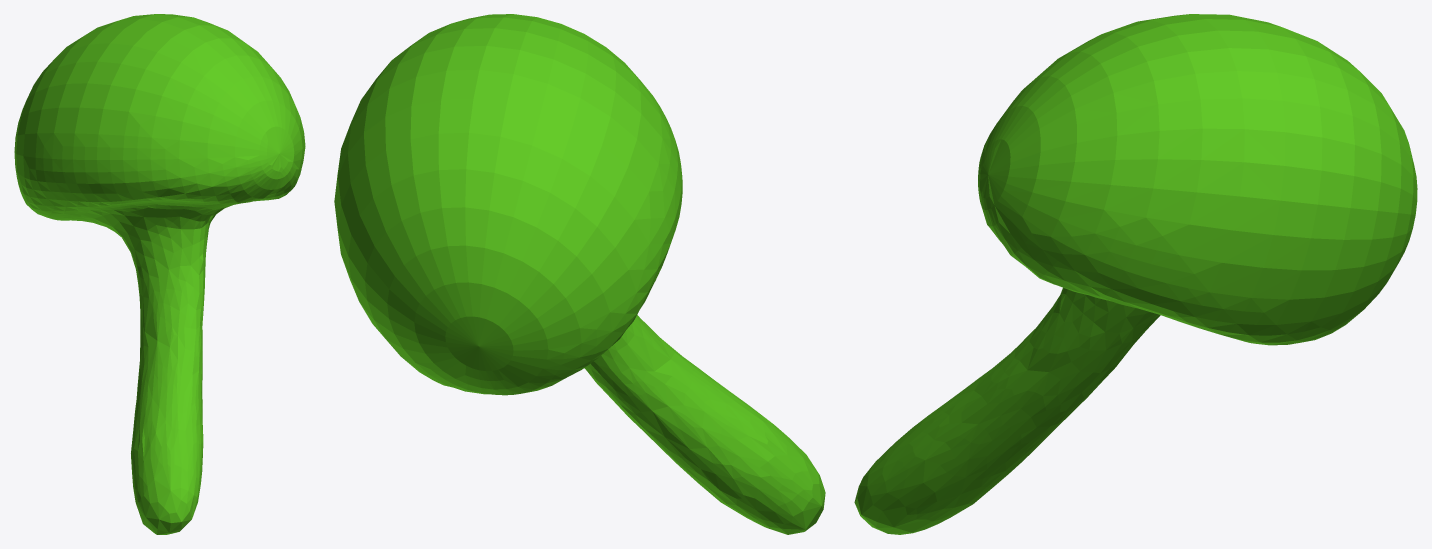
The model's file is mushroom.fbx.
The picture shows the model from 3 angles, left to right: view 1: azimuth 30°, elevation 25°; view 2: azimuth 150°, elevation 25°; view 3: azimuth 270°, elevation 25°; orthographic projection. The views are drawn at different scales.
Parts seen in each view (by area): view 1: 5945_vn.obj_1; view 2: 5945_vn.obj_1; view 3: 5945_vn.obj_1.
Part boxes in pixels (x1,y1,x2,y2): 5945_vn.obj_1: (14,14,305,534); 5945_vn.obj_1: (334,14,825,534); 5945_vn.obj_1: (854,14,1417,534).
Size of the model in its own units: 1.66 by 2.79 by 2.46.
